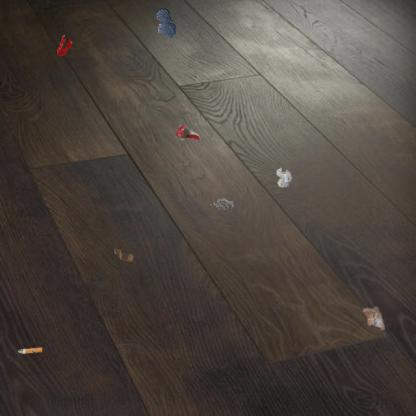dirty: (362, 306, 385, 330), (173, 123, 201, 142), (210, 196, 236, 215), (274, 166, 294, 189), (112, 246, 136, 264), (17, 345, 44, 356)
liquid: (154, 7, 178, 39), (56, 34, 73, 56)
